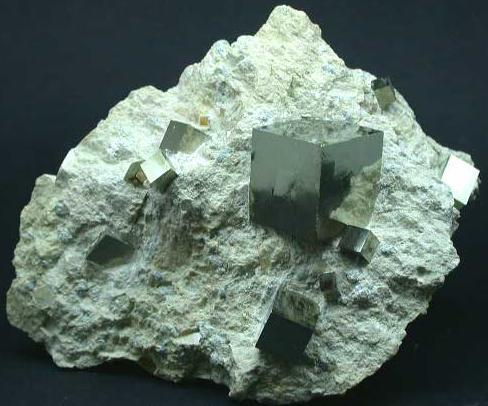pyrite: (250, 118, 383, 264), (124, 120, 209, 192), (258, 283, 328, 362), (87, 237, 134, 268), (372, 77, 397, 109)
